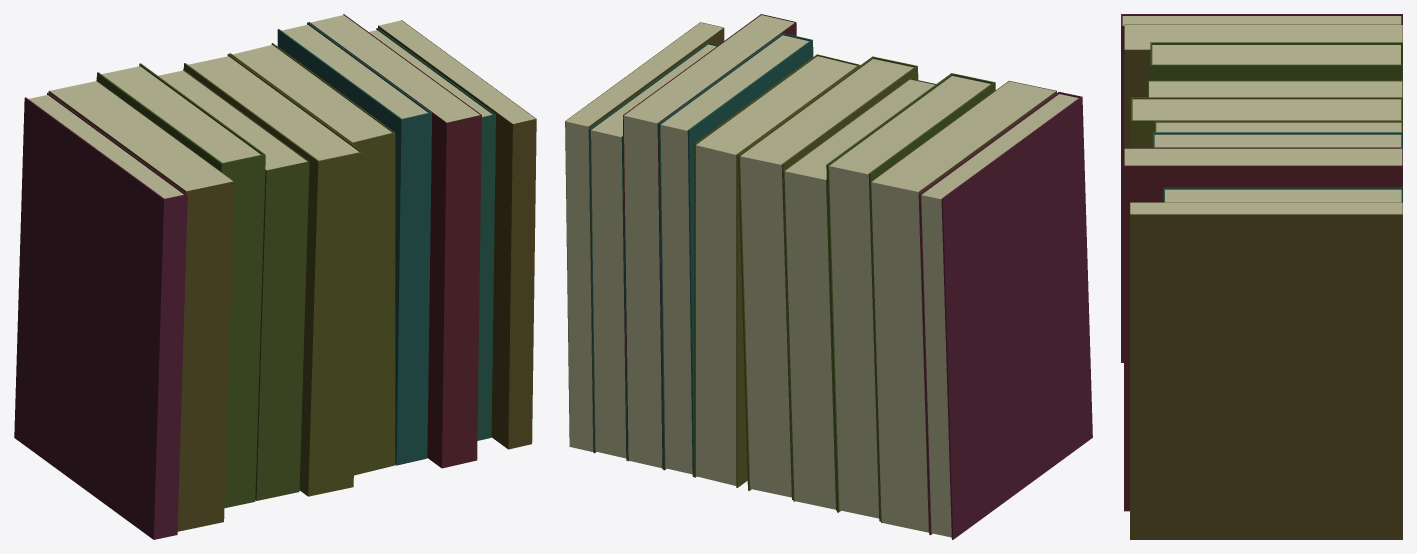
File: Books.fbx
3 renders of one model, left to right at view 1: azimuth 30°, elevation 25°; view 2: azimuth 150°, elevation 25°; view 3: azimuth 270°, elevation 25°, orthographic.
Visible parts, largest first — view 1: Book0, Book4, Book1, Book7, Book3, Book6, Book5, Book2, Book9, Book8; view 2: Book0, Book1, Book4, Book2, Book5, Book3, Book6, Book7, Book8, Book9; view 3: Book9, Book7, Book2, Book4, Book1, Book3, Book0, Book6, Book8, Book5.
Part boxes in pixels (x1,y1,x2,y2): Book0: (14,92,187,539); Book4: (183,54,363,496); Book1: (48,80,234,531); Book7: (308,14,481,468); Book3: (158,69,309,500); Book6: (277,22,431,465); Book5: (229,43,395,475); Book2: (96,63,265,508); Book9: (378,20,536,449); Book8: (369,28,495,440); Book0: (919,92,1092,539); Book1: (871,81,1056,532); Book4: (738,56,918,500); Book2: (826,73,995,521); Book5: (694,54,859,487); Book3: (783,78,935,510); Book6: (658,33,813,476); Book7: (623,14,796,469); Book8: (589,42,718,460); Book9: (565,22,724,452); Book9: (1130,202,1402,539); Book7: (1124,148,1402,511); Book2: (1150,42,1402,80); Book4: (1131,97,1402,147); Book1: (1124,24,1402,147); Book3: (1148,80,1402,97); Book0: (1121,14,1402,362); Book6: (1153,132,1402,147); Book8: (1163,187,1402,202); Book5: (1155,121,1402,132).
Size of the model in its own units: 0.3458 by 0.2951 by 0.2156.
